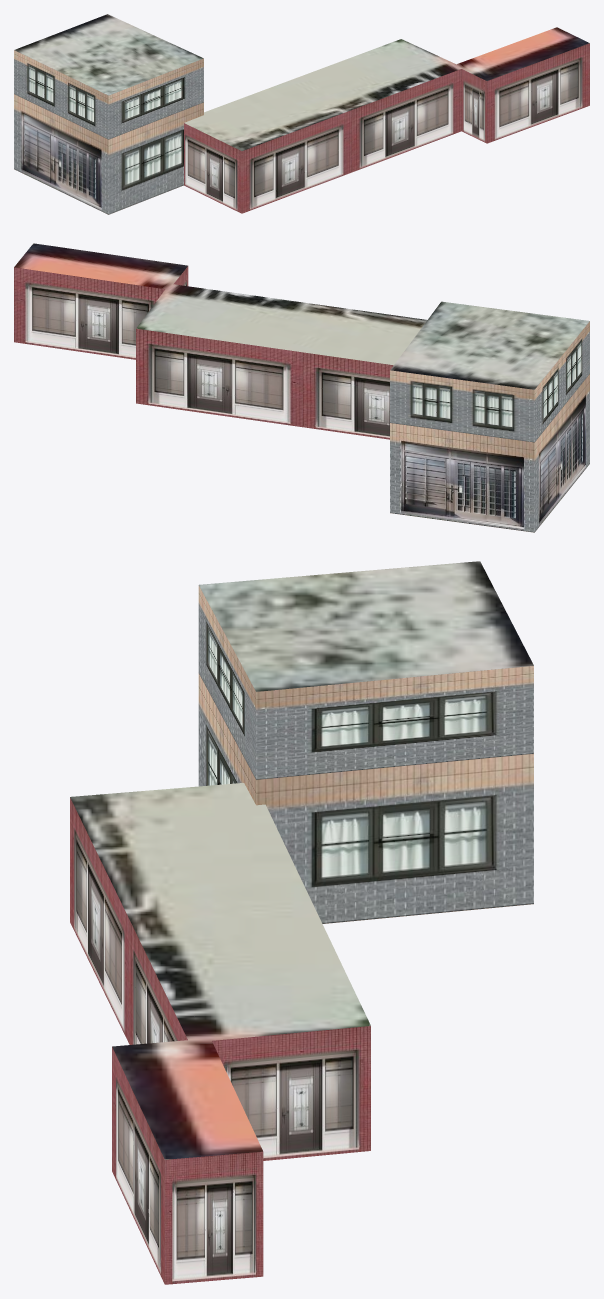
The model's file is tile_LOD8_r0_c4.glb.
3 views of the same model, one above another, from view 1: azimuth 30°, elevation 25°; view 2: azimuth 150°, elevation 25°; view 3: azimuth 270°, elevation 25° (orthographic). The views are drawn at different scales.
Size of the model in its own units: 22.83 by 5.23 by 9.23.
Materials: 6 (6 with a texture image).
